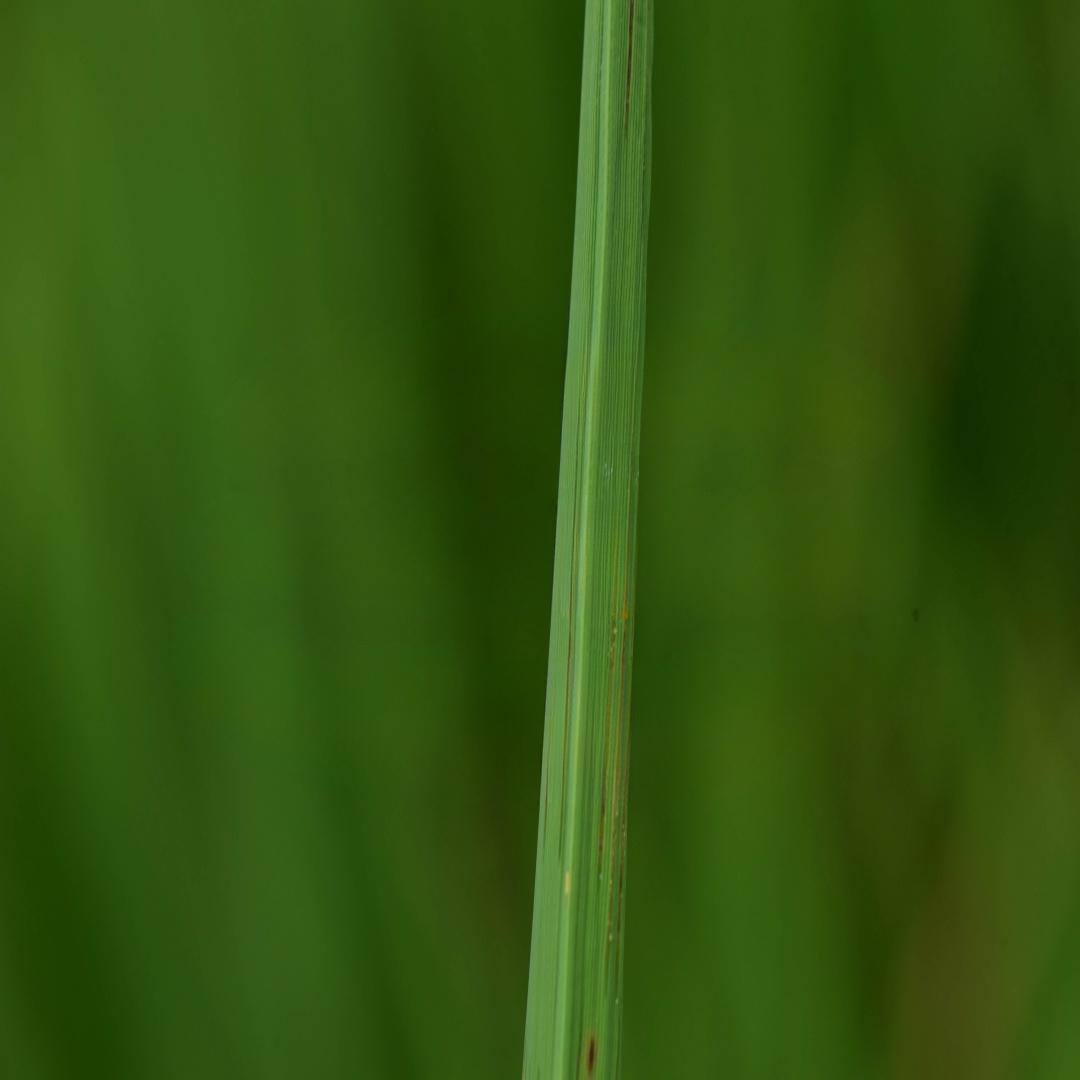BLS: (607, 561, 628, 940), (597, 563, 617, 907), (615, 731, 629, 997), (565, 582, 572, 758), (625, 0, 635, 122)
